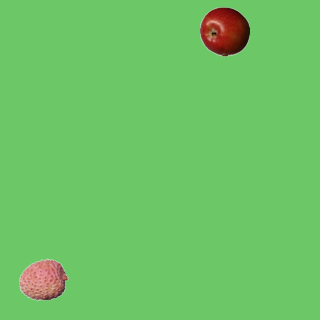Apple Braeburn: (199, 6, 249, 56)
Lychee: (18, 254, 68, 304)
